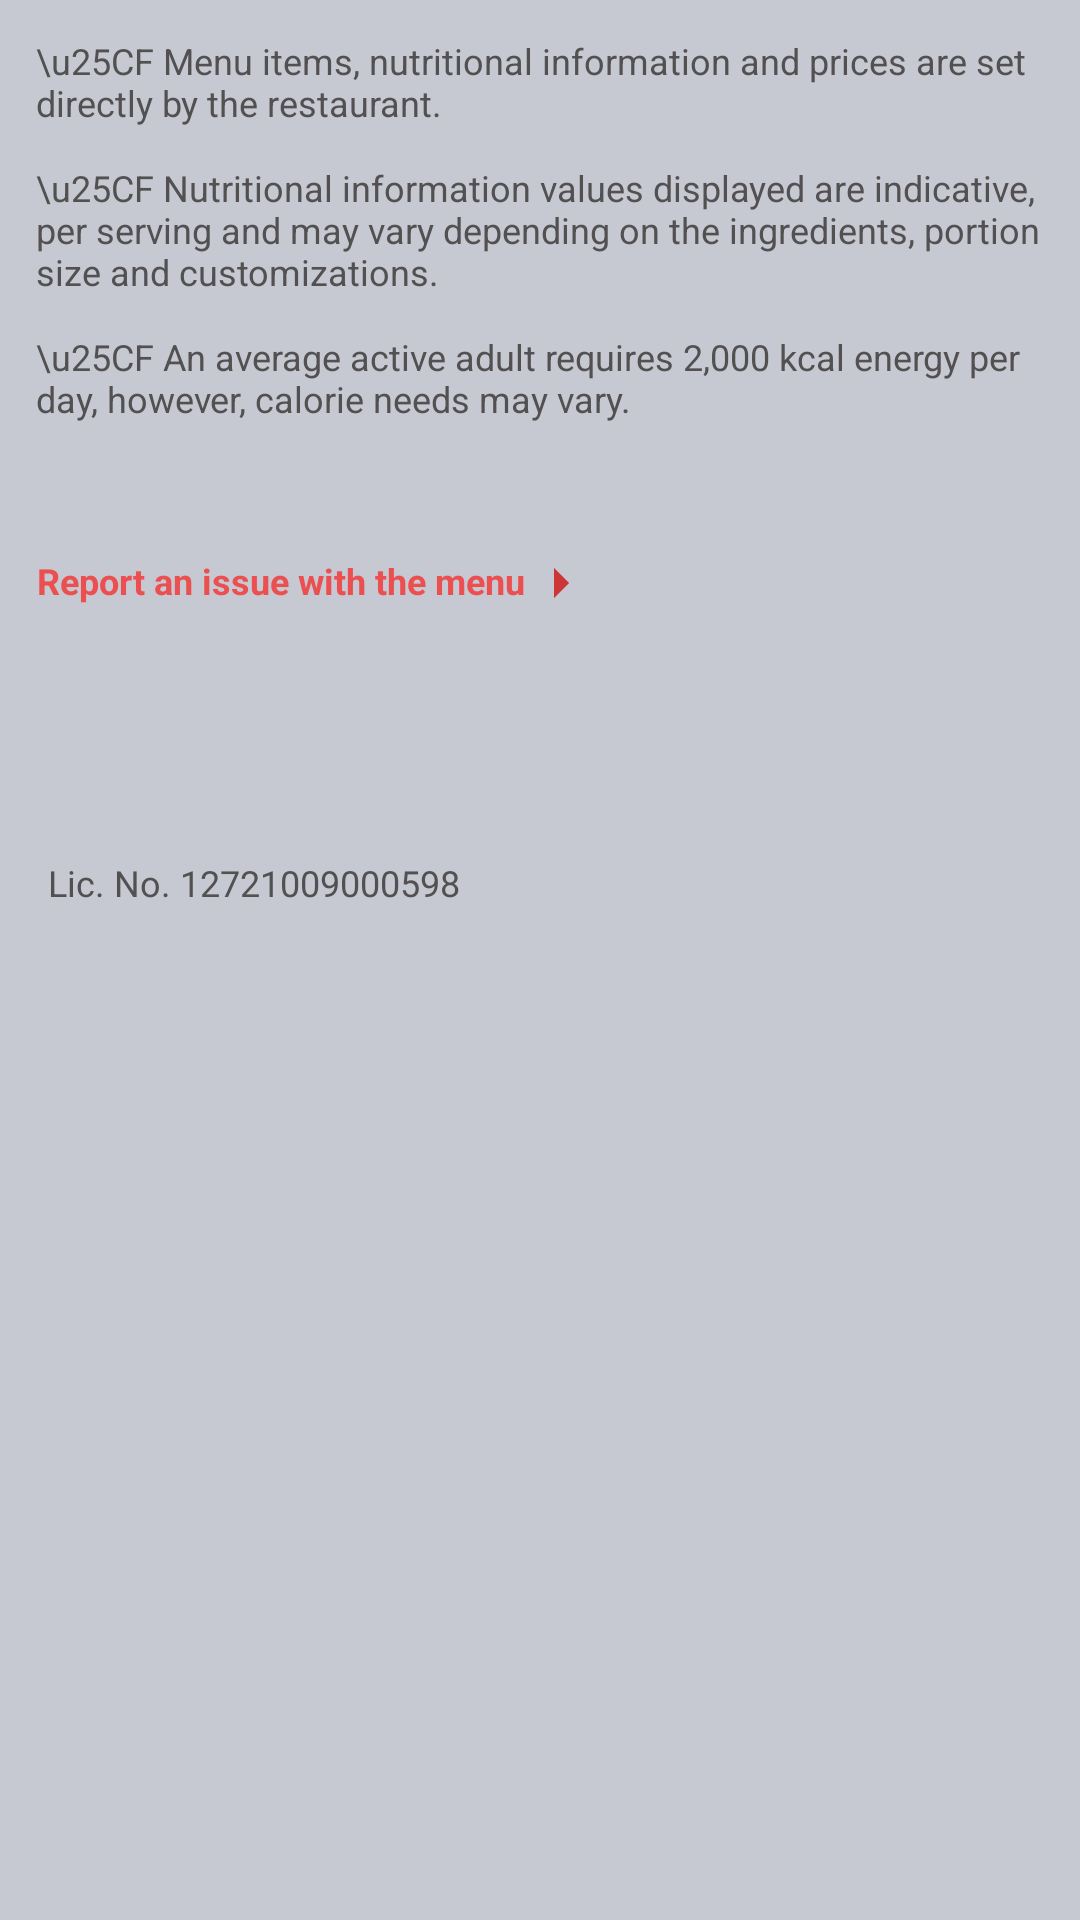

Icon click points for this 1080x1920 phone screenshot, format [x,y]:
arrow right: [561,583]
